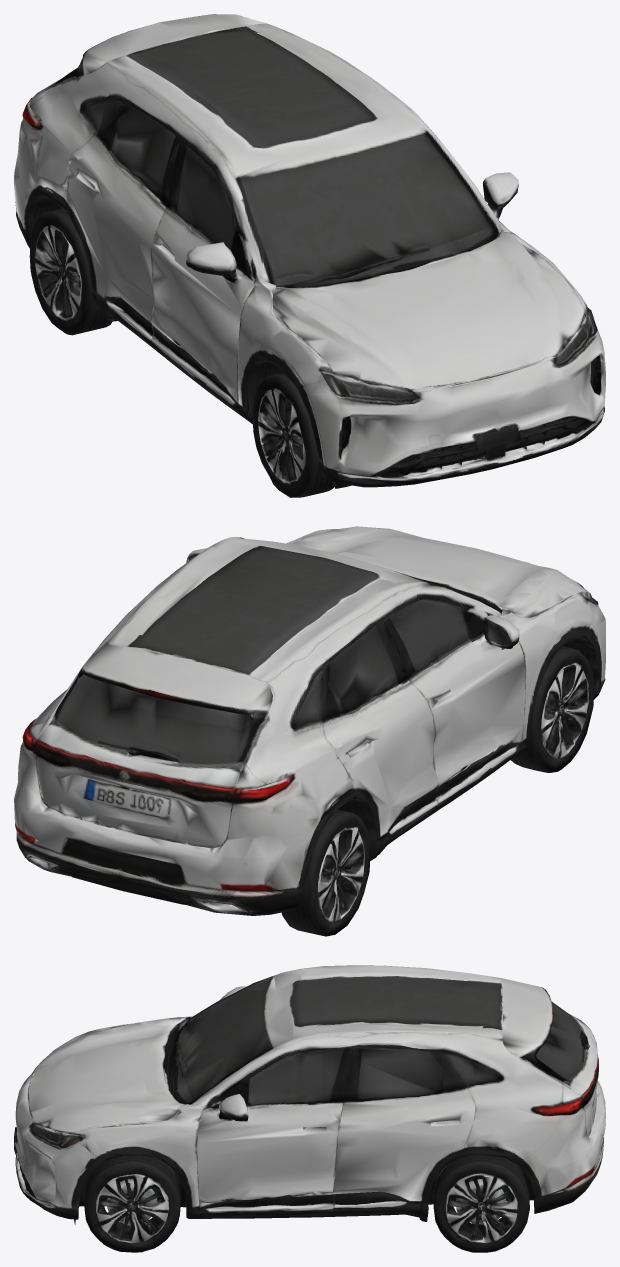
File: car_suv.glb
3 renders of one model, top to bottom at view 1: azimuth 30°, elevation 25°; view 2: azimuth 150°, elevation 25°; view 3: azimuth 270°, elevation 25°, orthographic. The views are drawn at different scales.
Parts seen in each view (by area): view 1: tripo_node_8c5399f9-dbeb-4aed-8dcd-e58fa2274673; view 2: tripo_node_8c5399f9-dbeb-4aed-8dcd-e58fa2274673; view 3: tripo_node_8c5399f9-dbeb-4aed-8dcd-e58fa2274673.
Part boxes in pixels (bbox=[...]): tripo_node_8c5399f9-dbeb-4aed-8dcd-e58fa2274673: bbox=[14, 14, 605, 497]; tripo_node_8c5399f9-dbeb-4aed-8dcd-e58fa2274673: bbox=[14, 526, 605, 936]; tripo_node_8c5399f9-dbeb-4aed-8dcd-e58fa2274673: bbox=[14, 965, 605, 1252].
Size of the model in its own units: 2.12 by 1.6 by 4.23.
1 material, 1 textured.
